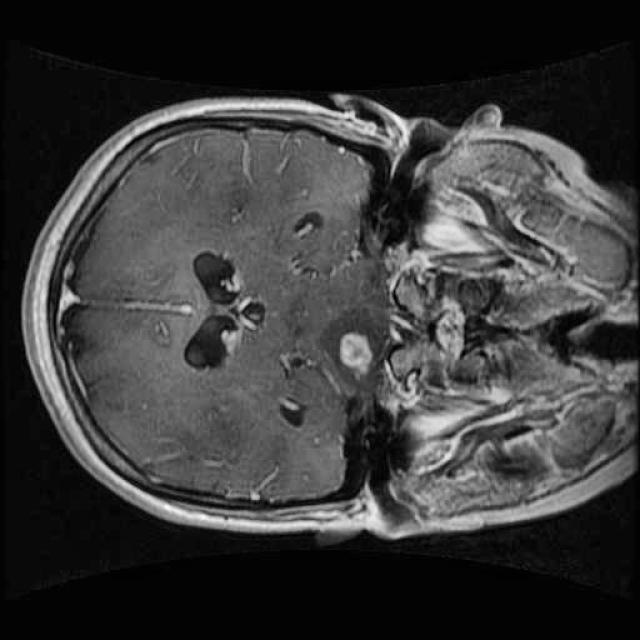Tumor: (322, 315, 388, 387)
